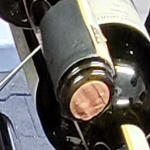bottle: (53, 52, 130, 132)
